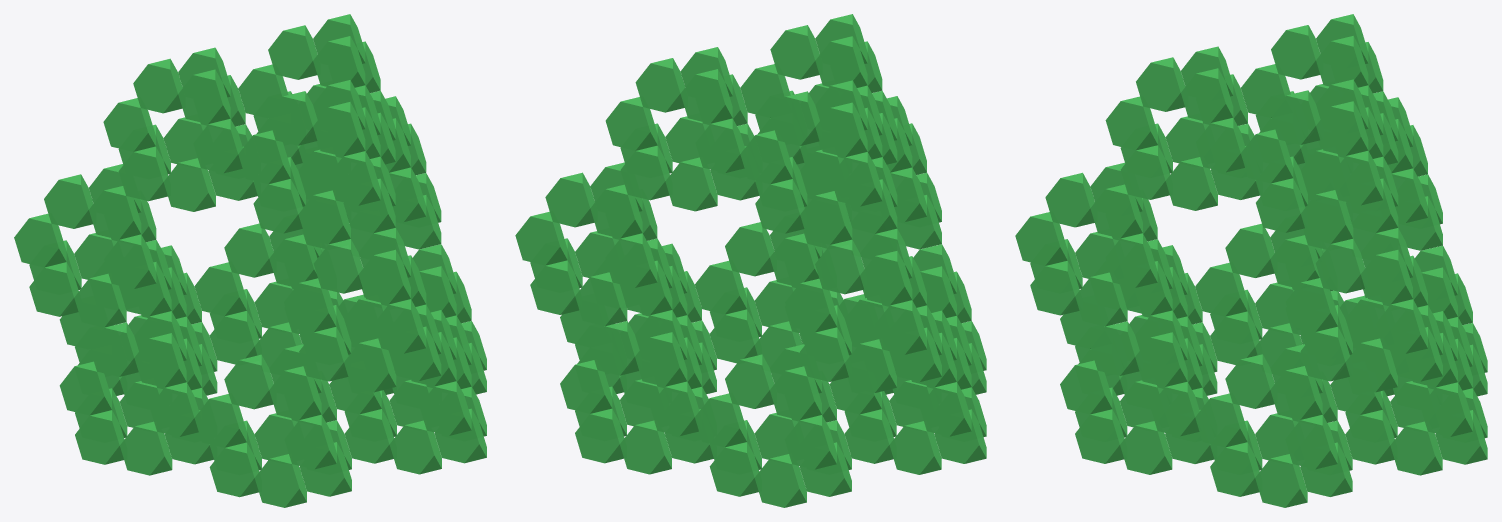
Rendered from fractaltruncatedtetrahedron2.glb.
3 views of the same model, side by side, from view 1: azimuth 30°, elevation 25°; view 2: azimuth 150°, elevation 25°; view 3: azimuth 270°, elevation 25° (orthographic).
Bounding box in the file's own units: 9.99 × 8.17 × 10.07.
